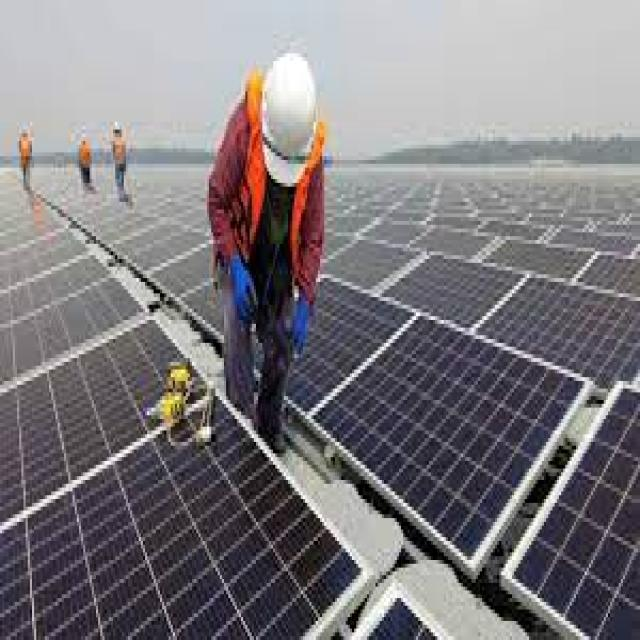Clean: (0, 391, 439, 640), (504, 376, 640, 640)
Dusty: (285, 173, 640, 564), (2, 166, 207, 522), (33, 151, 226, 336)
